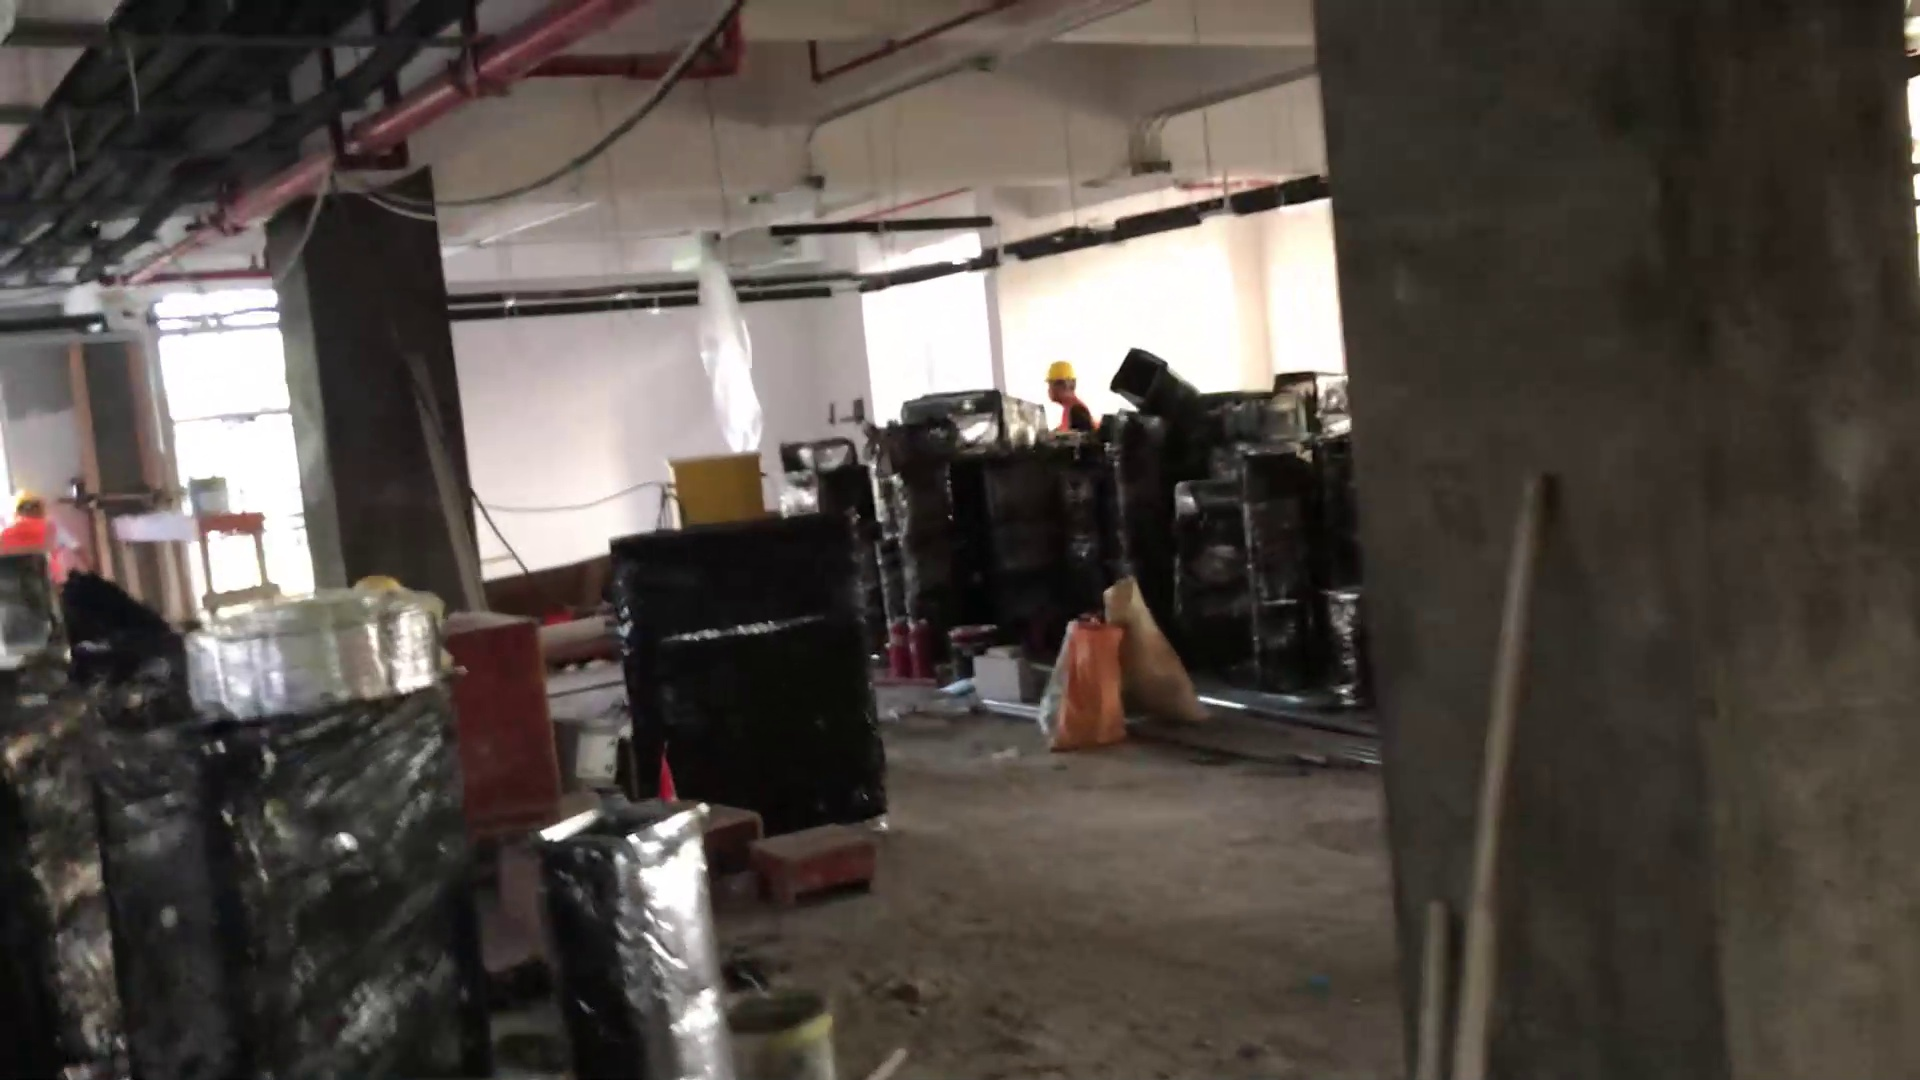helmet: (350, 569, 406, 599), (12, 484, 51, 510), (1046, 357, 1079, 380)
person: (1, 473, 86, 578), (1039, 354, 1098, 448)
vest: (2, 524, 61, 577), (1058, 395, 1095, 437)
